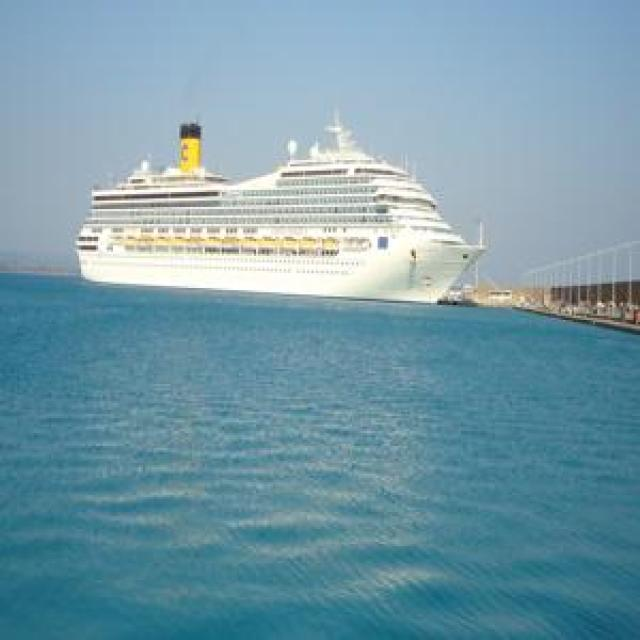passenger ship: (71, 105, 481, 306)
